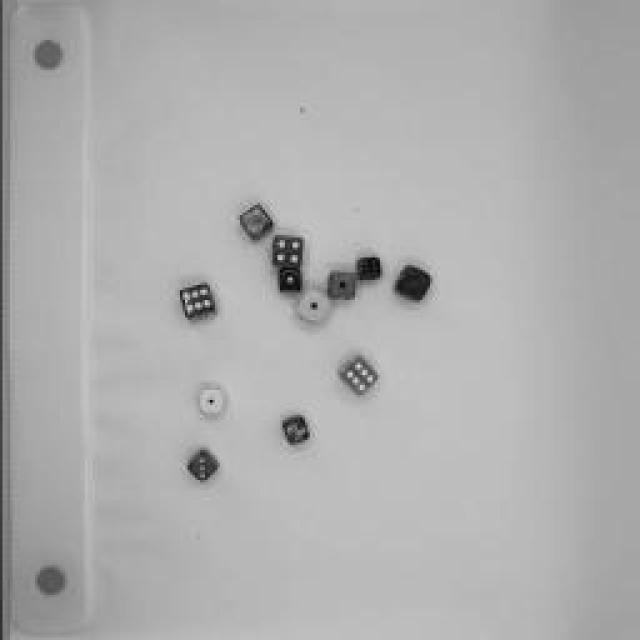dice_1: (290, 286, 332, 329), (324, 271, 356, 304), (274, 265, 304, 300), (194, 385, 226, 417)
dice_2: (235, 203, 275, 245), (278, 414, 310, 448)
dice_3: (391, 265, 434, 310), (184, 446, 221, 486)
dice_4: (267, 235, 305, 270)
dice_6: (334, 351, 381, 399), (175, 282, 220, 328), (351, 254, 384, 286)
